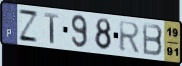8: (93, 17, 113, 52)
9: (70, 13, 89, 50)
B: (142, 22, 165, 58)
R: (118, 20, 142, 54)
T: (43, 12, 60, 46)
Z: (17, 7, 40, 44)
